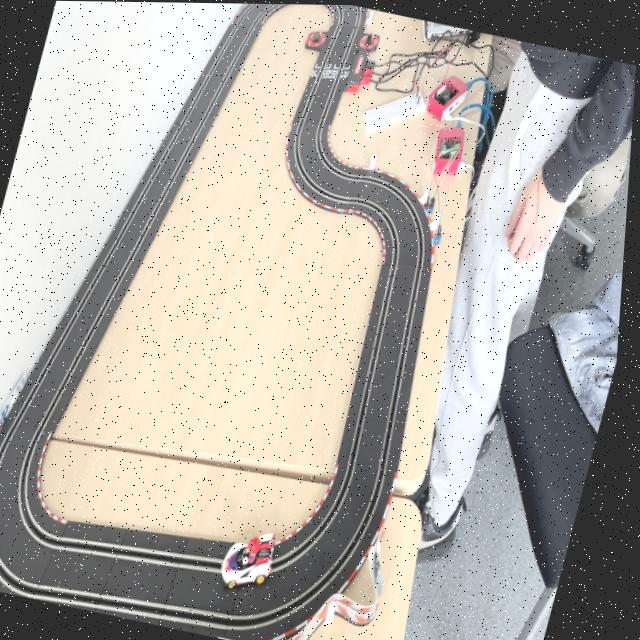mario: (221, 518, 295, 598)
